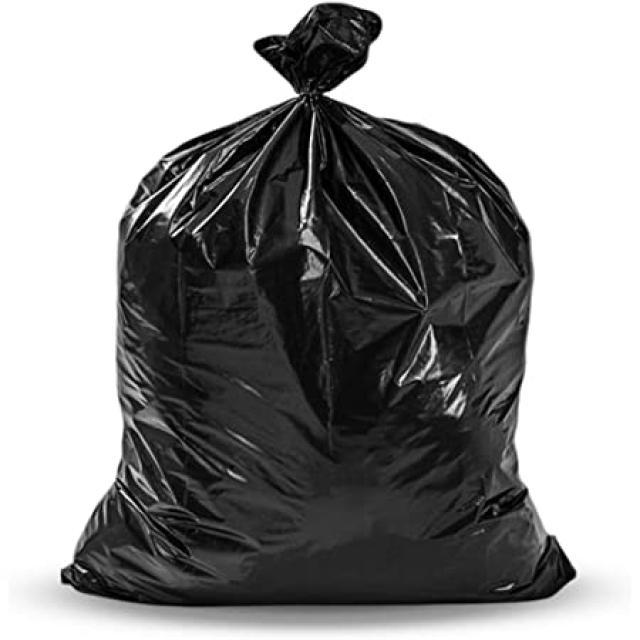Vinyl: (46, 1, 584, 622)
